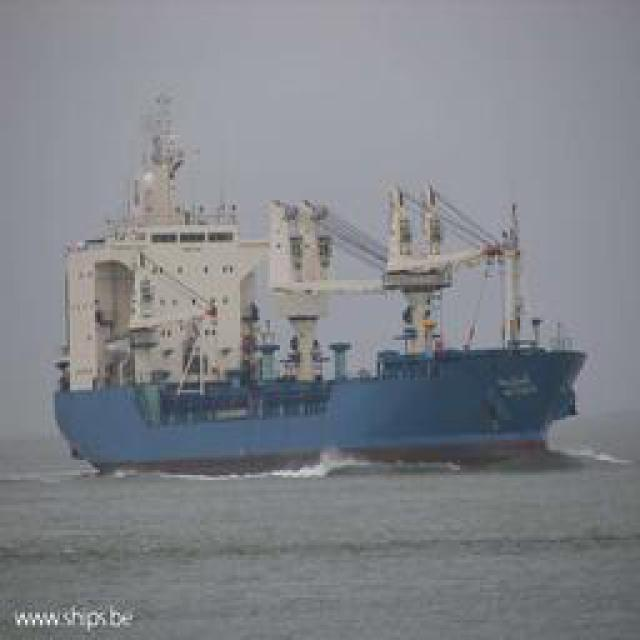Ship: (58, 139, 596, 464)
